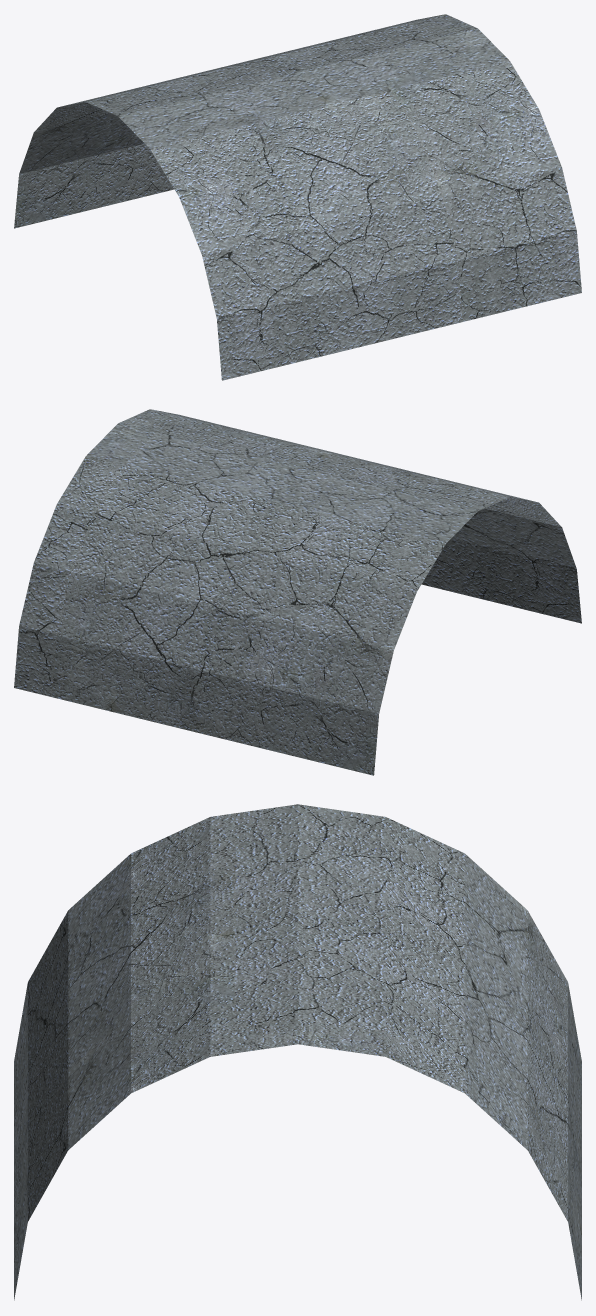
File: ceiling_02.fbx
3 views of the same model, one above another, from view 1: azimuth 30°, elevation 25°; view 2: azimuth 150°, elevation 25°; view 3: azimuth 270°, elevation 25° (orthographic). The views are drawn at different scales.
Visible parts, largest first — view 1: ceiling_02; view 2: ceiling_02; view 3: ceiling_02.
Part boxes in pixels (x1,y1,x2,y2): ceiling_02: (14,14,581,380); ceiling_02: (14,409,581,775); ceiling_02: (14,804,581,1300).
Size of the model in its own units: 100 by 50 by 100.
